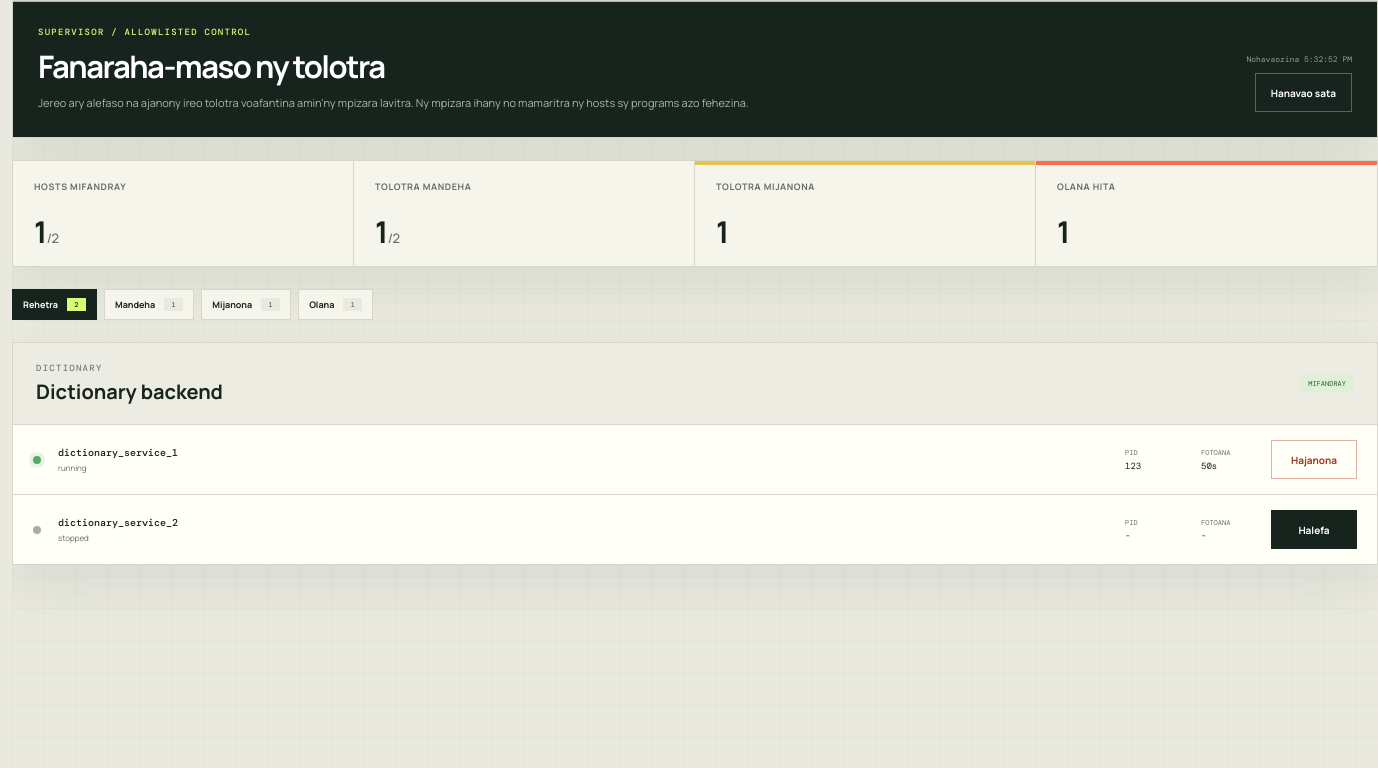
Test: ServicesWorkspace › summarises and filters service health
The image size is (1378, 768).
Check: the heading "Dictionary backend" is shown, box [36,378,223,405]
Check: the element showing "1 / 2" below "Hosts mifandray" is shown, box [34,211,58,252]
Step 1. Click the button with aria-label "Mandeha: 1" → click(149, 305), box [104,289,194,320]
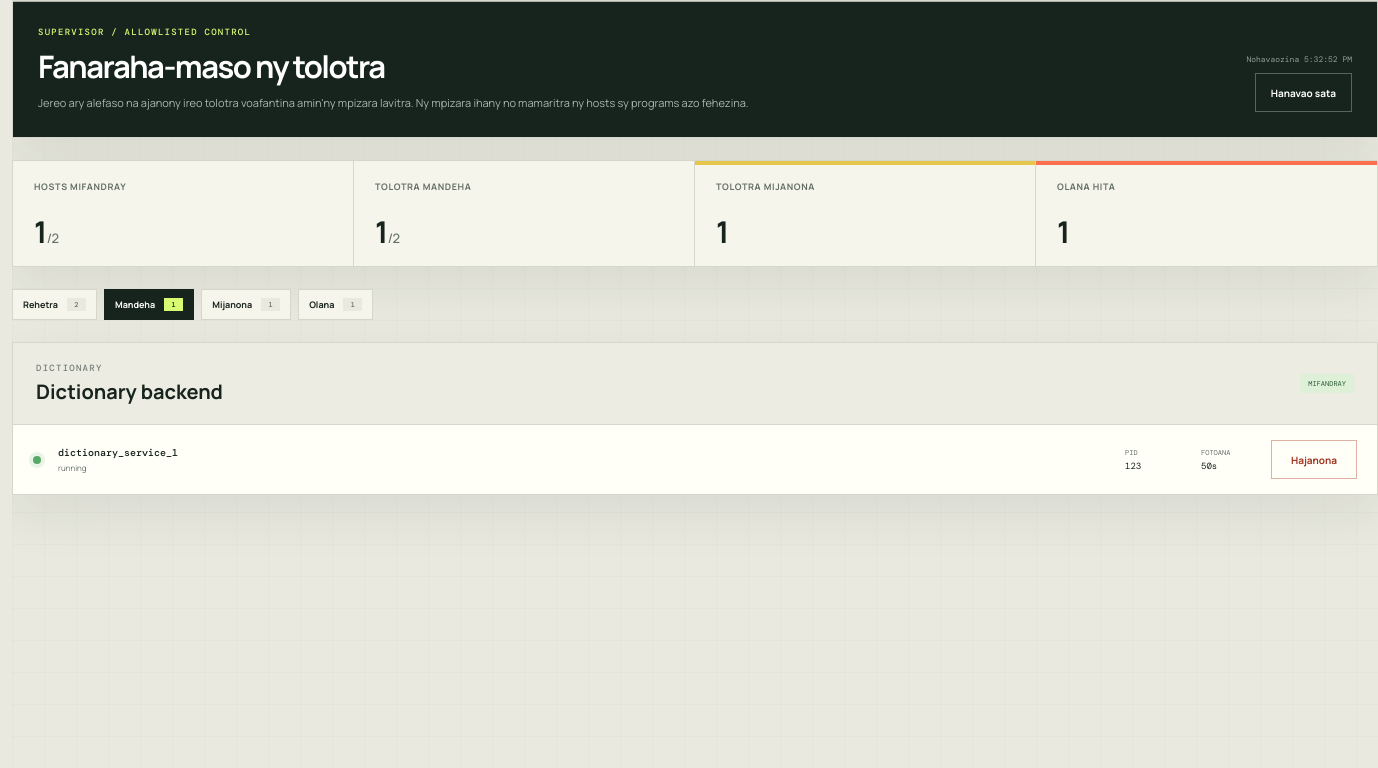
Check: the text "dictionary_service_1" is shown, box [58,446,178,459]
Check: the text "dictionary_service_2" is gone
